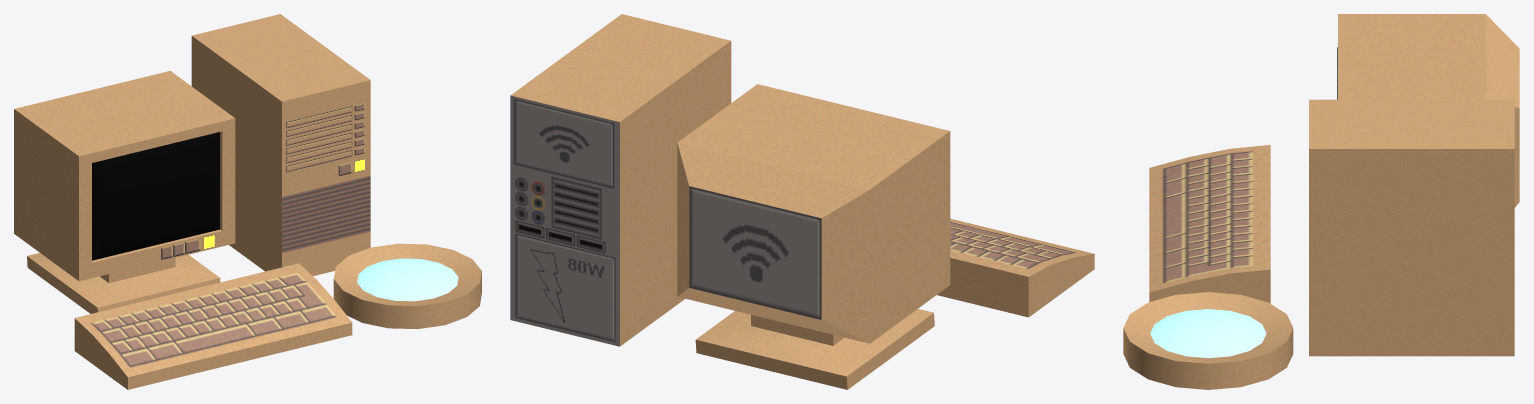
Rendered from Computer.fbx.
3 renders of one model, left to right at view 1: azimuth 30°, elevation 25°; view 2: azimuth 150°, elevation 25°; view 3: azimuth 270°, elevation 25°, orthographic. The views are drawn at different scales.
Visible parts, largest first — view 1: Cube, Cube.001, Cube.002, Cylinder; view 2: Cube, Cube.001, Cube.002; view 3: Cube.001, Cube.002, Cube, Cylinder.
Part boxes in pixels (<box>): Cube: <box>14,71,235,313</box>; Cube.001: <box>191,14,370,275</box>; Cube.002: <box>74,263,352,389</box>; Cylinder: <box>333,243,481,329</box>; Cube: <box>677,84,950,389</box>; Cube.001: <box>510,14,731,346</box>; Cube.002: <box>937,218,1094,317</box>; Cube.001: <box>1309,99,1514,356</box>; Cube.002: <box>1149,145,1270,303</box>; Cube: <box>1337,14,1519,207</box>; Cylinder: <box>1123,292,1293,389</box>.
Size of the model in its own units: 152 by 71.92 by 123.
Materials: 2 (1 with a texture image).
